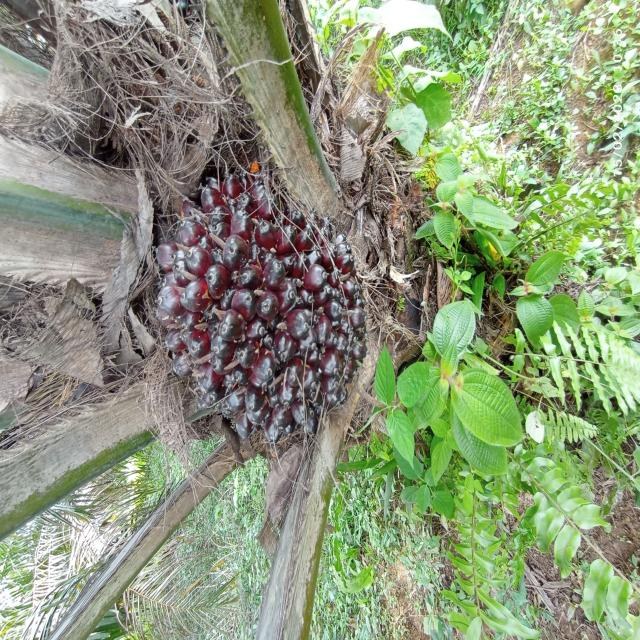fraksi 1: (115, 148, 407, 468)
